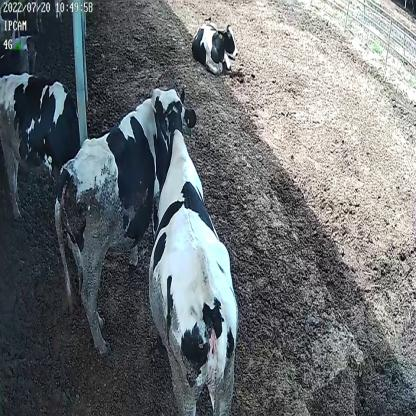cow: (54, 85, 198, 346), (148, 86, 238, 412), (0, 72, 82, 216), (189, 16, 240, 75)
